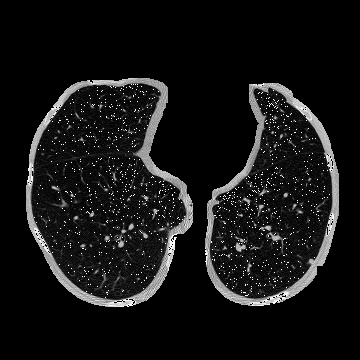PN: (308, 258, 314, 264)
